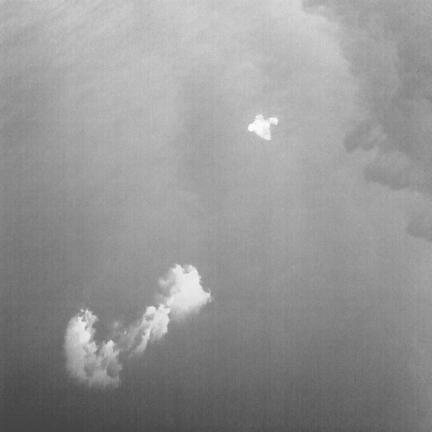flukeprints: (159, 265, 211, 318), (132, 305, 169, 353), (68, 310, 90, 345), (248, 115, 277, 140)
